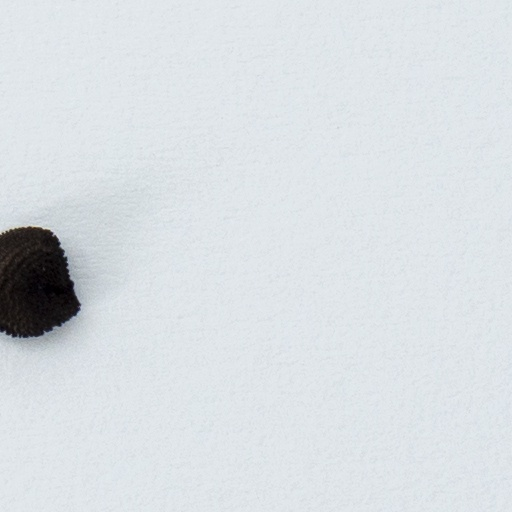Agrostemma: (0, 225, 82, 340)
